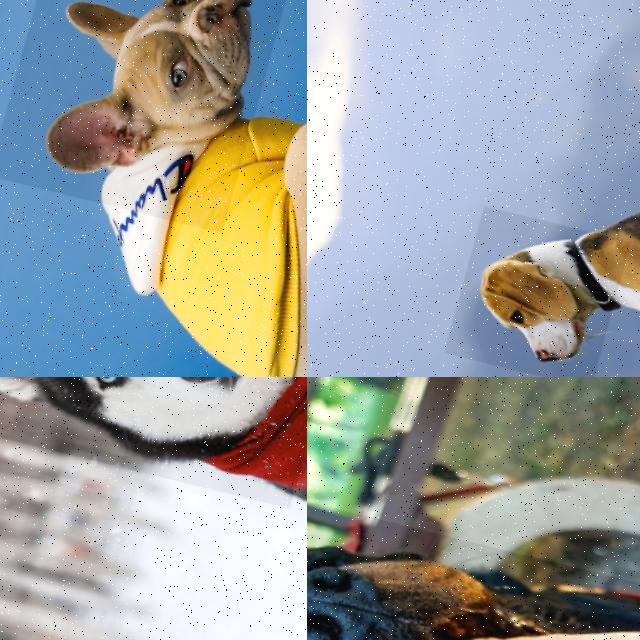beagle: (446, 202, 635, 377)
bulldog: (0, 0, 307, 231)
husky: (0, 377, 307, 506)
rottweiler: (307, 470, 640, 640)
